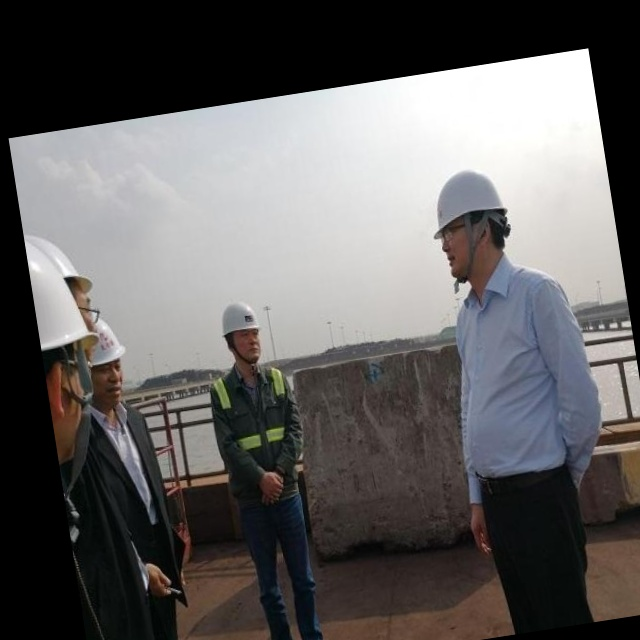Sin_Chaleco: (436, 256, 603, 480)
